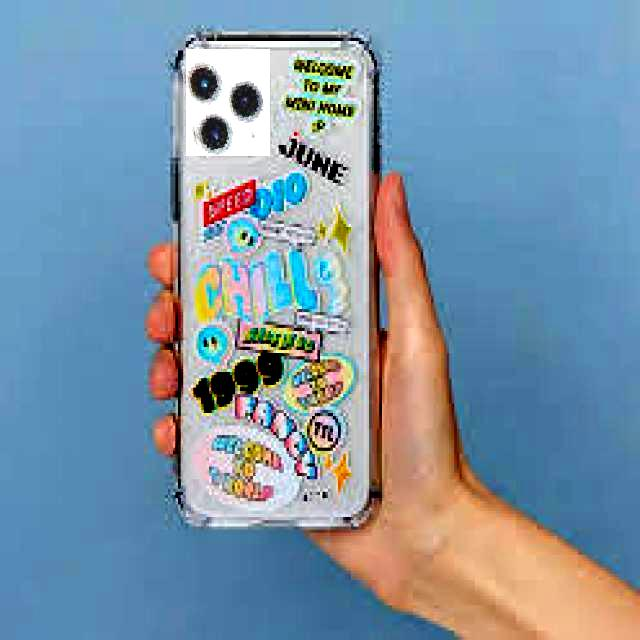lens_back: (193, 116, 231, 159), (230, 73, 261, 124), (184, 66, 220, 101)
phone: (164, 28, 388, 541)
